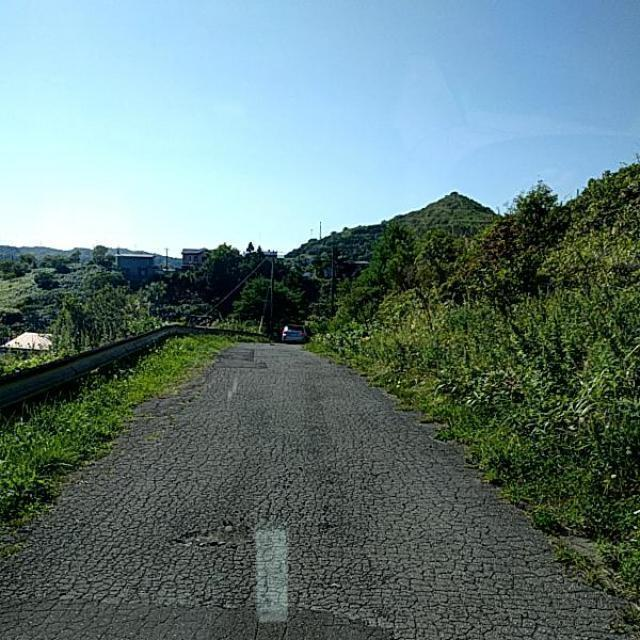Retak Buaya: (0, 405, 629, 640)
